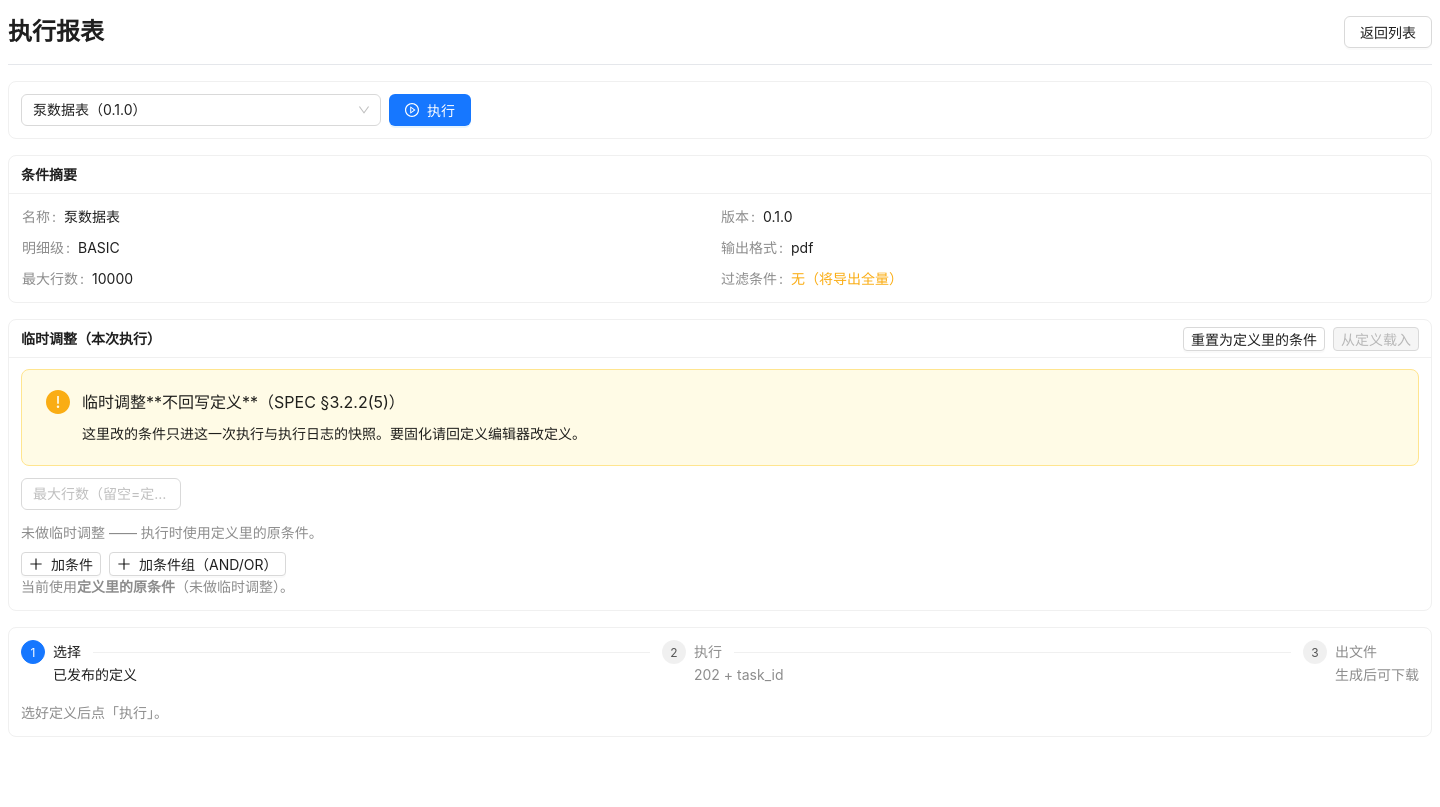
ReportExecutePage — 轮询终态（评审 P1 #8） › status=FAILED 时立刻停下并报错，不空转到超时
Click the button "执行". click: (430, 110)
box: left=389, top=94, right=471, bottom=126
Wait 22010 ms
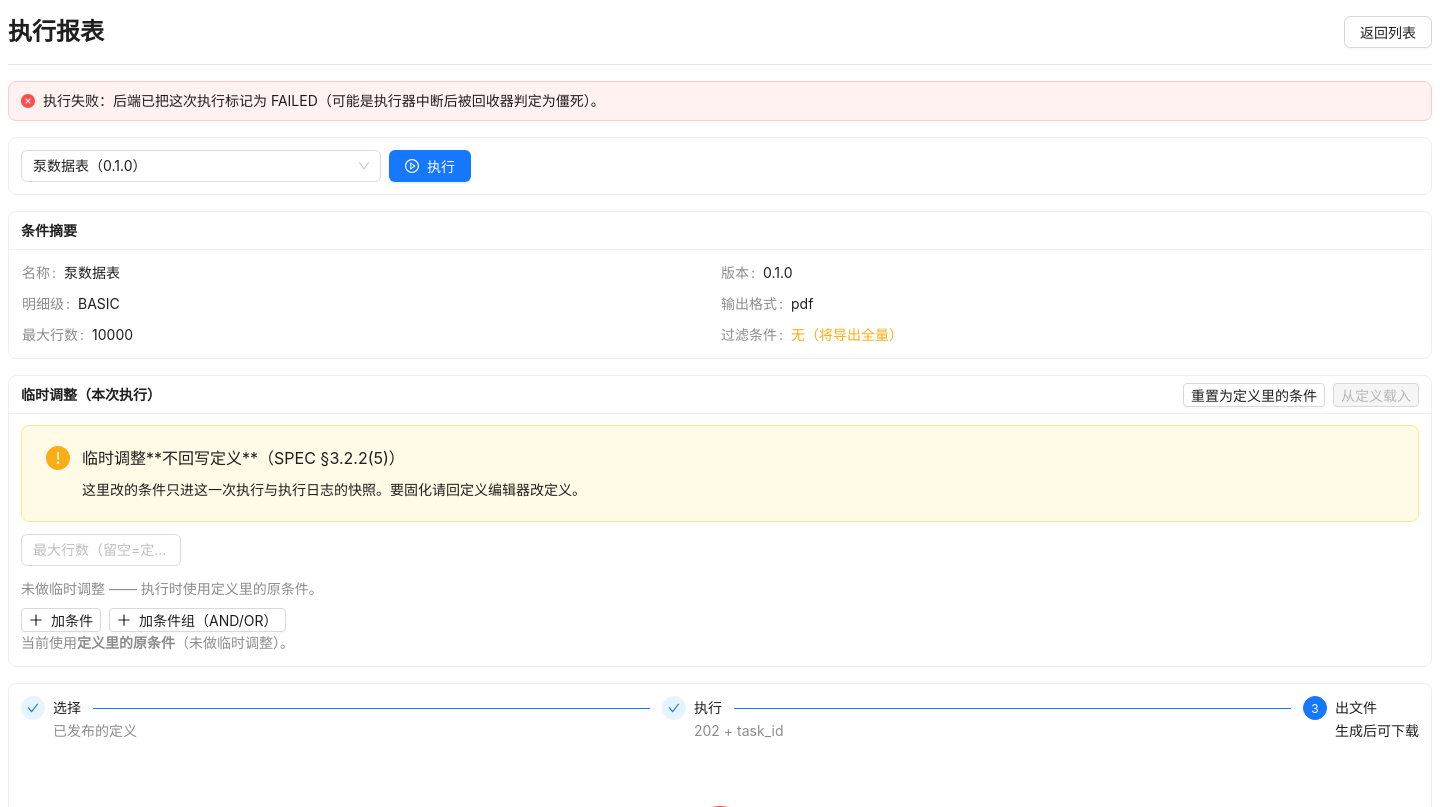
Result: the text "执行失败" is shown at left=43, top=92, right=605, bottom=109
